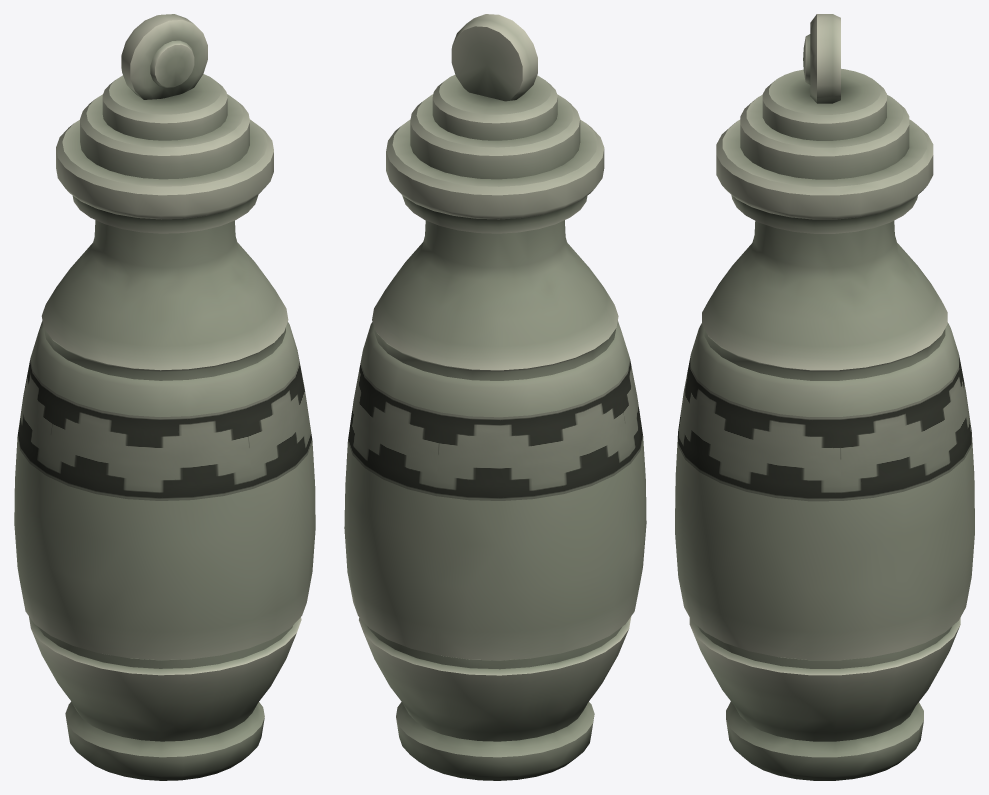
Rendered from stone_unguent_jar.fbx.
The picture shows the model from 3 angles, left to right: view 1: azimuth 30°, elevation 25°; view 2: azimuth 150°, elevation 25°; view 3: azimuth 270°, elevation 25°; orthographic projection.
Parts seen in each view (by area): view 1: stone_unguent_jar_Body; view 2: stone_unguent_jar_Body; view 3: stone_unguent_jar_Body.
Part boxes in pixels (x1,y1,x2,y2): stone_unguent_jar_Body: (14,14,315,780); stone_unguent_jar_Body: (344,14,646,780); stone_unguent_jar_Body: (675,14,974,780).
Bounding box in the file's own units: 0.0935 × 0.2497 × 0.0935.
1 material, 1 textured.
